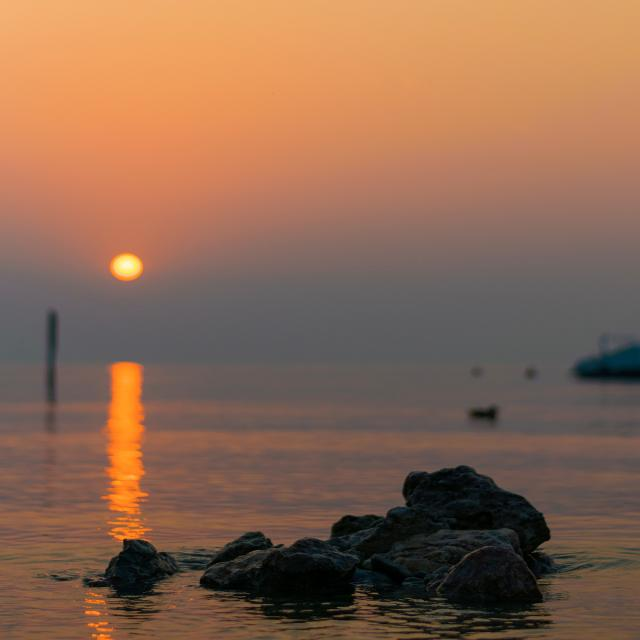reef: (80, 433, 577, 617)
